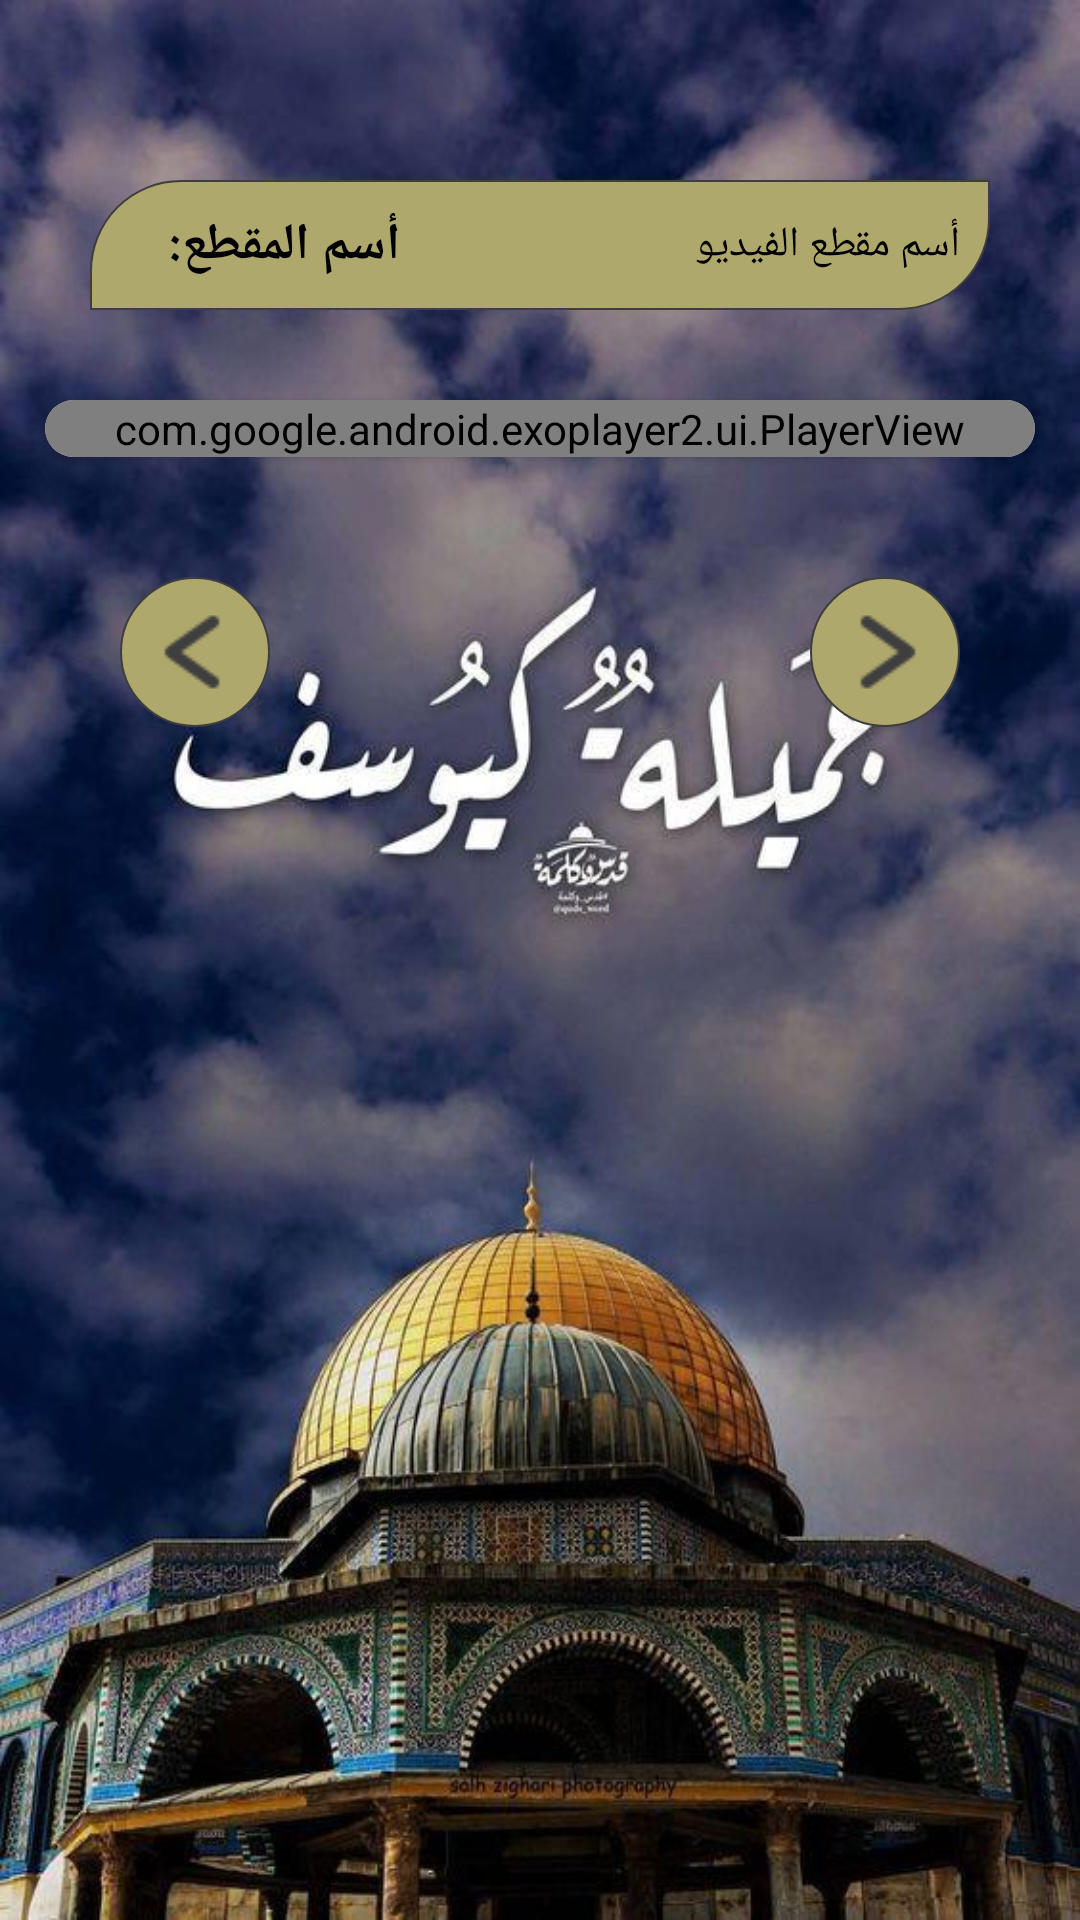

Icons on this 1080x1920 Android screen, each with the point to tap as (x=x, y=y):
back: (x=195, y=652)
next: (x=885, y=652)
